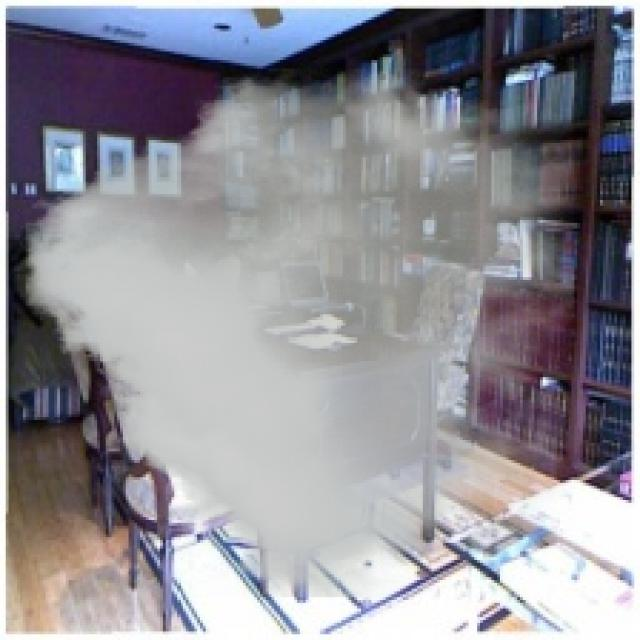smoke: (26, 69, 574, 597)
